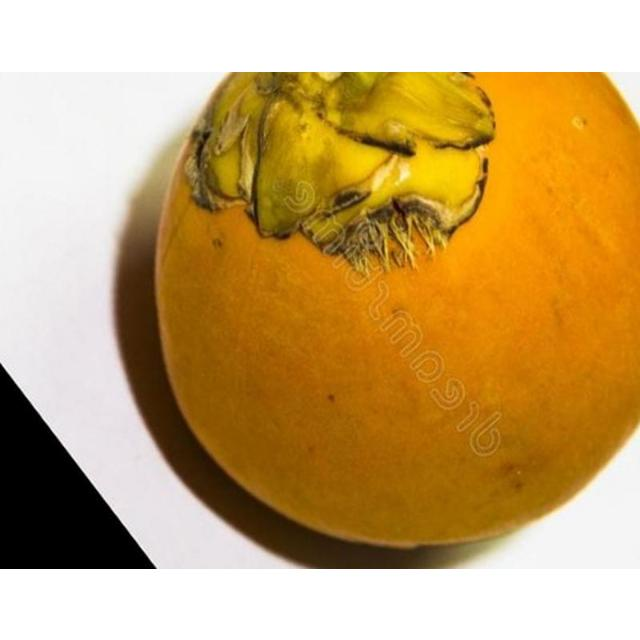good: (152, 71, 639, 553)
